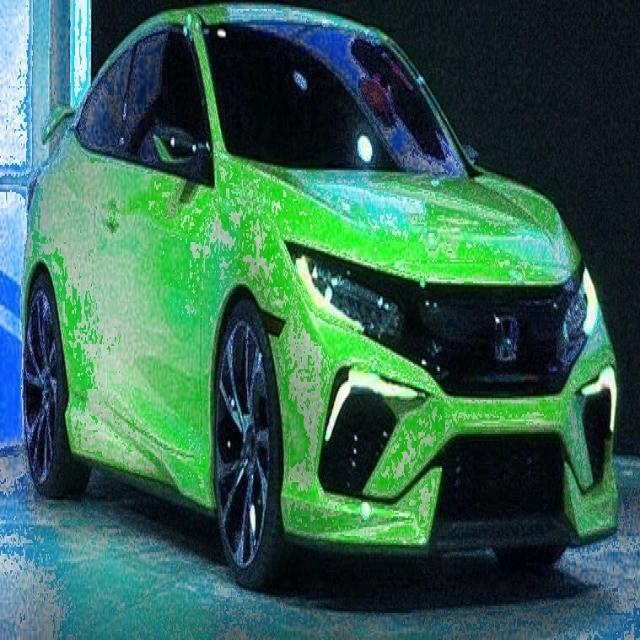green: (17, 0, 618, 584)
